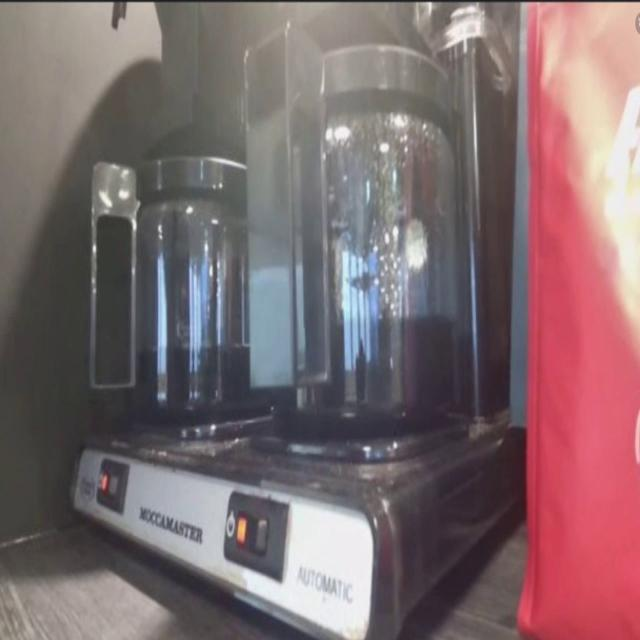coffee: (253, 0, 488, 448), (117, 124, 288, 440)
